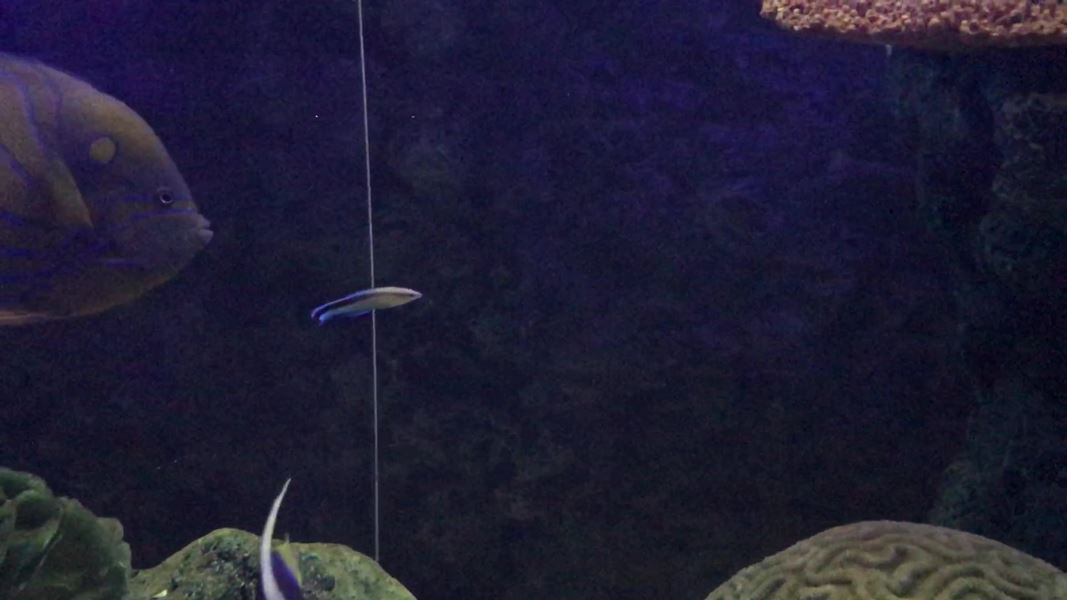Bluesteak cleaner wrasse: (298, 285, 420, 326)
